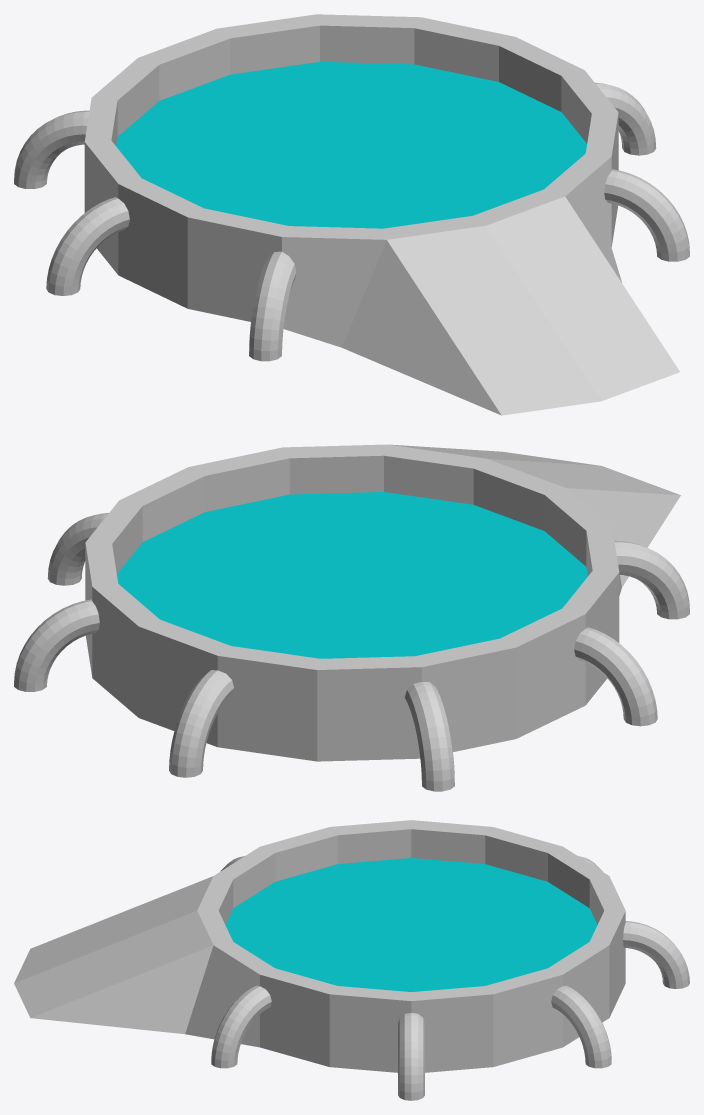
File: Liquid Bath.fbx
The picture shows the model from 3 angles, top to bottom: view 1: azimuth 30°, elevation 25°; view 2: azimuth 150°, elevation 25°; view 3: azimuth 270°, elevation 25°; orthographic projection. The views are drawn at different scales.
Parts seen in each view (by area): view 1: Liquid Bath; view 2: Liquid Bath; view 3: Liquid Bath.
Boxes of the visible parts, <box> form: Liquid Bath: <box>14,14,689,415</box>; Liquid Bath: <box>14,444,689,791</box>; Liquid Bath: <box>14,820,689,1100</box>.
Bounding box in the file's own units: 519 × 75 × 631.
